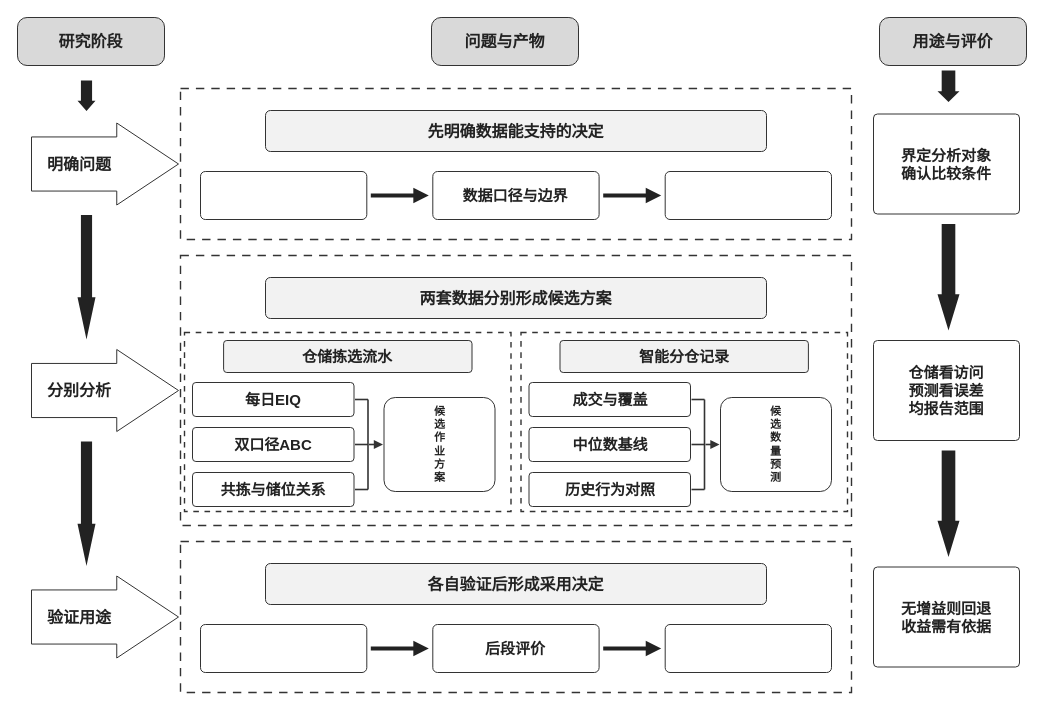
Image size: 1044x711. Some labels were removed from this diagram. The shapes that lost their labels are listed below. From the top down, each one's centre as x and y in pixels, then its label:
pixel 283 195: 使用者与行动
pixel 748 195: 比较对象与指标
pixel 283 648: 同条件对照
pixel 748 648: 保留或回退
